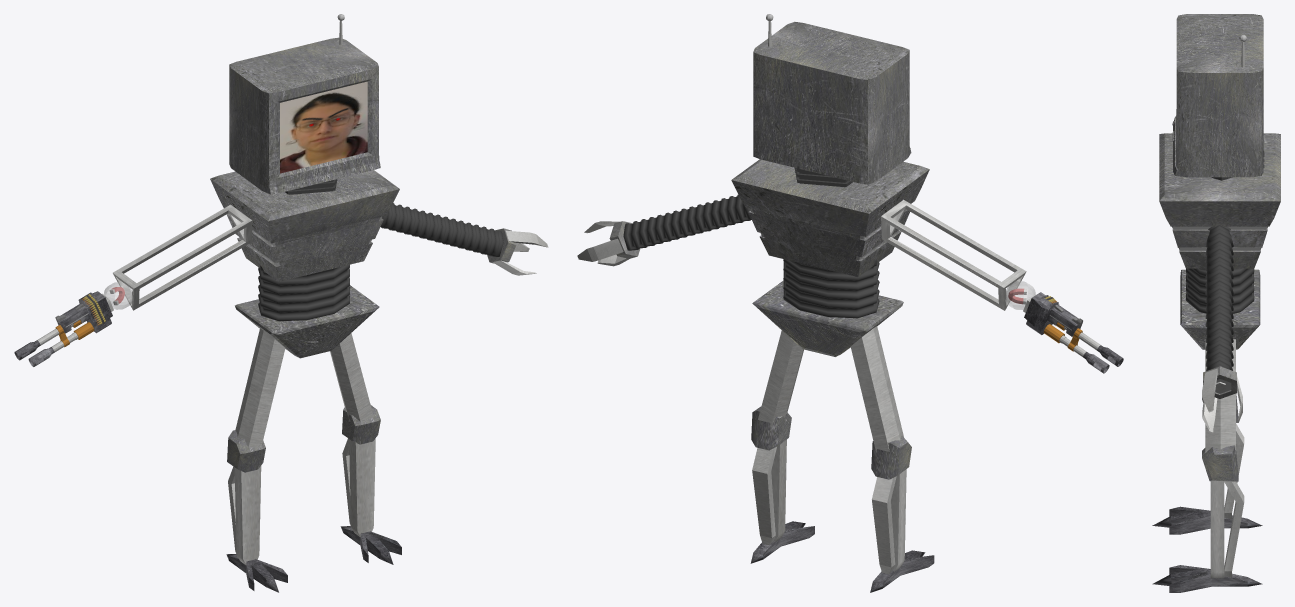
The model's file is Saymond Robot.fbx.
The picture shows the model from 3 angles, left to right: view 1: azimuth 30°, elevation 25°; view 2: azimuth 150°, elevation 25°; view 3: azimuth 270°, elevation 25°; orthographic projection. The views are drawn at different scales.
Visible parts, largest first — view 1: DatorShape; view 2: DatorShape; view 3: DatorShape.
Boxes of the visible parts, <box> form: DatorShape: <box>14,14,548,592</box>; DatorShape: <box>577,14,1123,592</box>; DatorShape: <box>1152,14,1280,592</box>.
Size of the model in its own units: 19.66 by 18.71 by 4.01.
13 materials, 5 textured.
